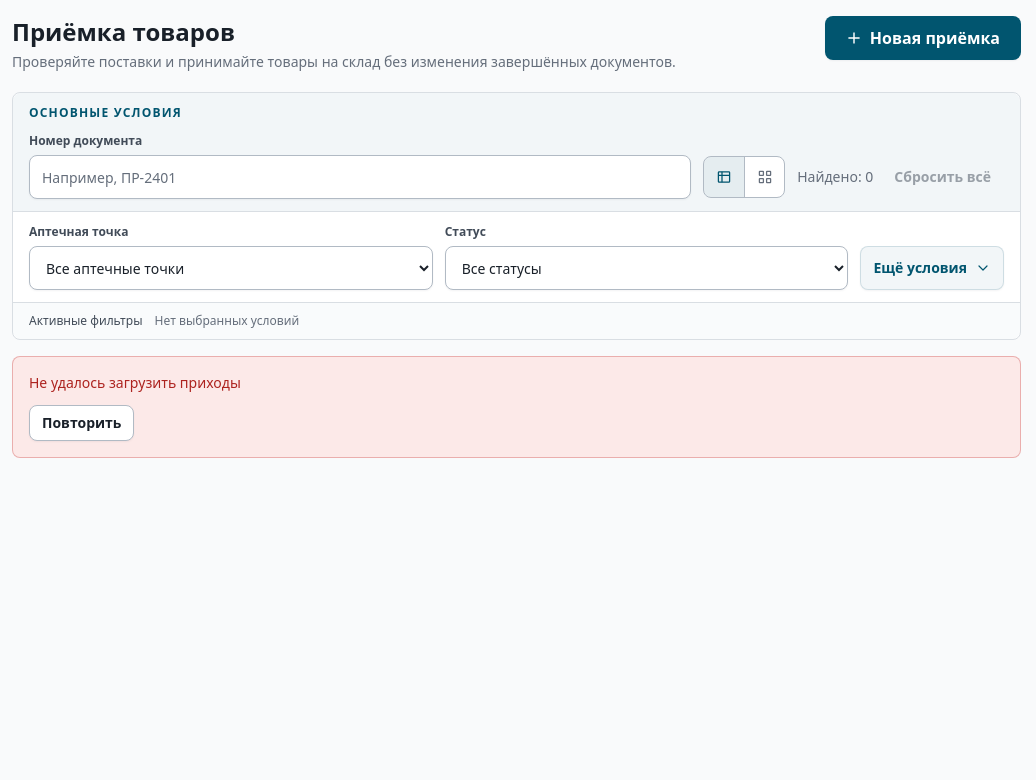
it: IncomingPage › shows a retryable error without a misleading empty state
Check: the message shows "Не удалось загрузить приходы", box x1=29 y1=373 x2=241 y2=392
Check: the text "Приходов пока нет" is not shown
What coordinates should you click on to do the following:
click the button "Повторить"
I would click on:
 (82, 423)
Its box is x1=29 y1=405 x2=134 y2=441.
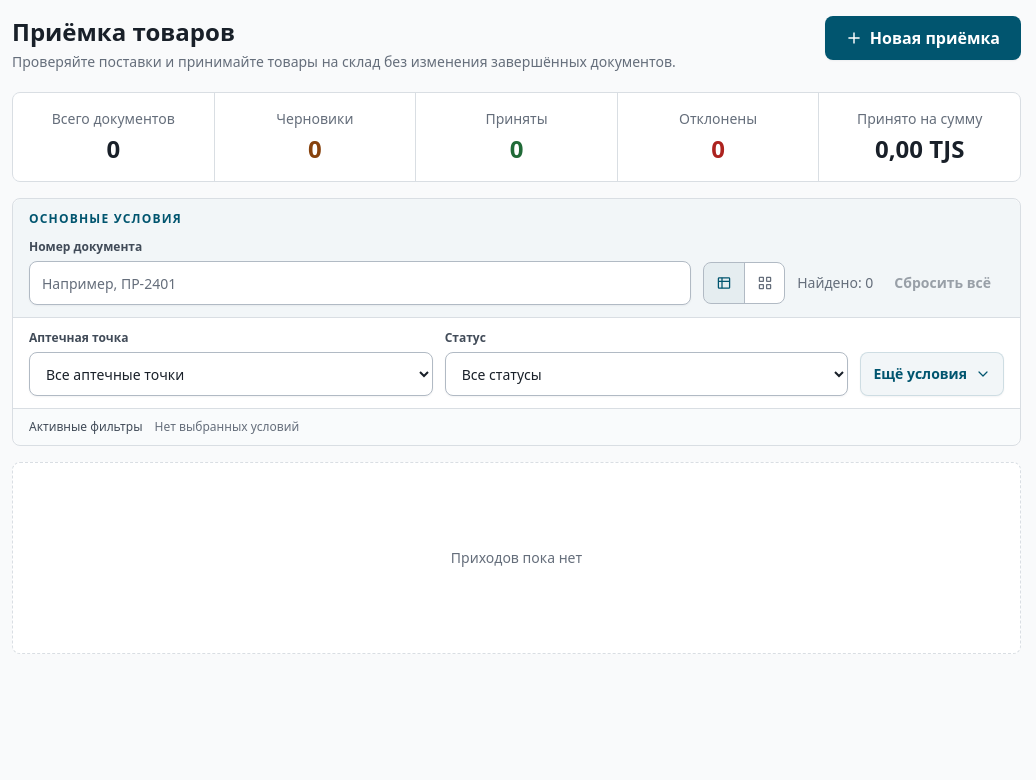
Check: the text "Приходов пока нет" is shown, box x1=451 y1=548 x2=582 y2=568
